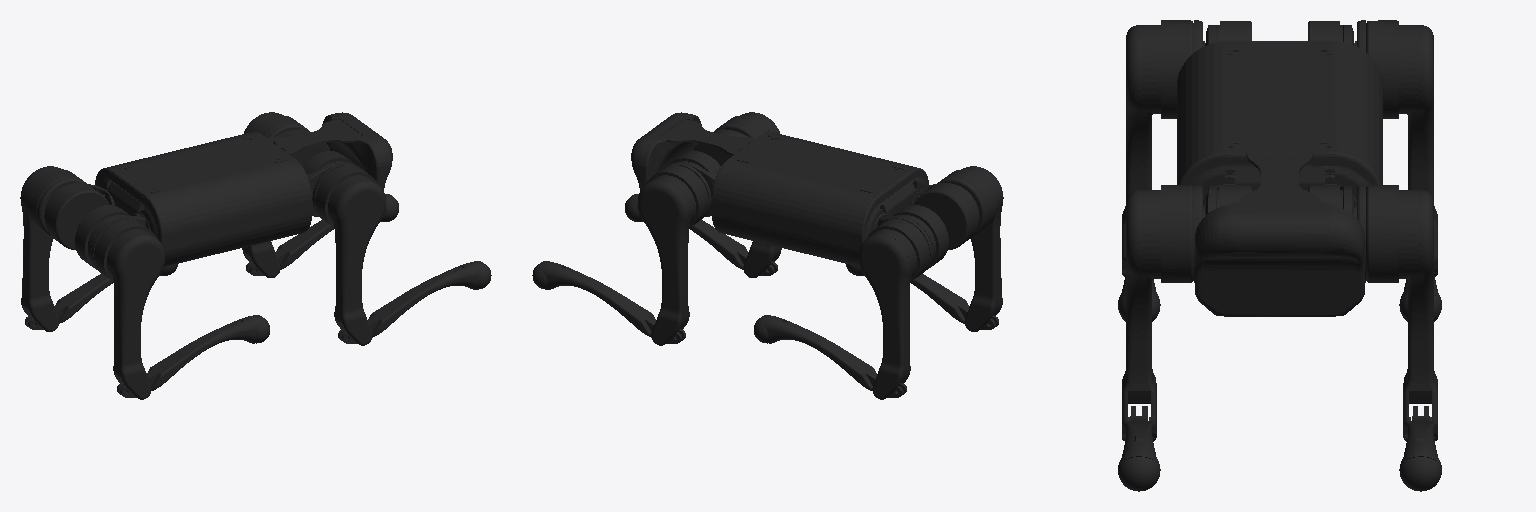
URDF robot description (a1_description):
<?xml version="1.0" ?>
<!-- =================================================================================== -->
<!-- |    This document was autogenerated by xacro from robot.xacro                    | -->
<!-- |    EDITING THIS FILE BY HAND IS NOT RECOMMENDED                                 | -->
<!-- =================================================================================== -->
<robot name="a1_description" xmlns:xacro="http://www.ros.org/wiki/xacro">
  <material name="black">
    <color rgba="0.0 0.0 0.0 1.0"/>
  </material>
  <material name="blue">
    <color rgba="0.0 0.0 0.8 1.0"/>
  </material>
  <material name="green">
    <color rgba="0.0 0.8 0.0 1.0"/>
  </material>
  <material name="grey">
    <color rgba="0.2 0.2 0.2 1.0"/>
  </material>
  <material name="silver">
    <color rgba="0.913725490196 0.913725490196 0.847058823529 1.0"/>
  </material>
  <material name="orange">
    <color rgba="1.0 0.423529411765 0.0392156862745 1.0"/>
  </material>
  <material name="brown">
    <color rgba="0.870588235294 0.811764705882 0.764705882353 1.0"/>
  </material>
  <material name="red">
    <color rgba="0.8 0.0 0.0 1.0"/>
  </material>
  <material name="white">
    <color rgba="1.0 1.0 1.0 1.0"/>
  </material>
  <link name="base">
    <visual>
      <origin rpy="0 0 0" xyz="0 0 0"/>
      <geometry>
        <box size="0.001 0.001 0.001"/>
      </geometry>
    </visual>
  </link>
  <joint name="floating_base" type="fixed">
    <origin rpy="0 0 0" xyz="0 0 0"/>
    <parent link="base"/>
    <child link="trunk"/>
  </joint>
  <link name="trunk">
    <visual>
      <origin rpy="0 0 0" xyz="0 0 0"/>
      <geometry>
        <mesh filename="../meshes/trunk.obj" scale="1 1 1"/>
      </geometry>
      <material name="grey"/>
    </visual>
    <inertial>
      <origin rpy="0 0 0" xyz="0.012731 0.002186 0.000515"/>
      <mass value="4.713"/>
      <inertia ixx="0.01683993" ixy="8.3902e-05" ixz="0.000597679" iyy="0.056579028" iyz="2.5134e-05" izz="0.064713601"/>
    </inertial>
  </link>
  <joint name="imu_joint" type="fixed">
    <parent link="trunk"/>
    <child link="imu_link"/>
    <origin rpy="0 0 0" xyz="0 0 0"/>
  </joint>
  <link name="imu_link">
    <inertial>
      <mass value="0.001"/>
      <origin rpy="0 0 0" xyz="0 0 0"/>
      <inertia ixx="0.0001" ixy="0" ixz="0" iyy="0.0001" iyz="0" izz="0.0001"/>
    </inertial>
    <visual>
      <origin rpy="0 0 0" xyz="0 0 0"/>
      <geometry>
        <box size="0.001 0.001 0.001"/>
      </geometry>
      <material name="red"/>
    </visual>
  </link>
  <joint name="FR_hip_joint" type="revolute">
    <origin rpy="0 0 0" xyz="0.183 -0.047 0"/>
    <parent link="trunk"/>
    <child link="FR_hip"/>
    <axis xyz="1 0 0"/>
    <dynamics damping="0" friction="0"/>
    <limit effort="20" lower="-0.802851455917" upper="0.802851455917" velocity="52.4"/>
  </joint>
  <link name="FR_hip">
    <visual>
      <origin rpy="3.14159265359 0 0" xyz="0 0 0"/>
      <geometry>
        <mesh filename="../meshes/hip.obj" scale="1 1 1"/>
      </geometry>
      <material name="grey"/>
    </visual>
    <inertial>
      <origin rpy="0 0 0" xyz="-0.003311 -0.000635 3.1e-05"/>
      <mass value="0.696"/>
      <inertia ixx="0.000469246" ixy="9.409e-06" ixz="-3.42e-07" iyy="0.00080749" iyz="4.66e-07" izz="0.000552929"/>
    </inertial>
  </link>
  <joint name="FR_thigh_joint" type="revolute">
    <origin rpy="0 0 0" xyz="0 -0.08505 0"/>
    <parent link="FR_hip"/>
    <child link="FR_thigh"/>
    <axis xyz="0 1 0"/>
    <dynamics damping="0" friction="0"/>
    <limit effort="55" lower="-1.0471975512" upper="4.18879020479" velocity="28.6"/>
  </joint>
  <link name="FR_thigh">
    <visual>
      <origin rpy="0 0 0" xyz="0 0 0"/>
      <geometry>
        <mesh filename="../meshes/thigh_mirror.obj" scale="1 1 1"/>
      </geometry>
      <material name="grey"/>
    </visual>
    <inertial>
      <origin rpy="0 0 0" xyz="-0.003237 0.022327 -0.027326"/>
      <mass value="1.013"/>
      <inertia ixx="0.005529065" ixy="-4.825e-06" ixz="0.000343869" iyy="0.005139339" iyz="-2.2448e-05" izz="0.001367788"/>
    </inertial>
  </link>
  <joint name="FR_calf_joint" type="revolute">
    <origin rpy="0 0 0" xyz="0 0 -0.2"/>
    <parent link="FR_thigh"/>
    <child link="FR_calf"/>
    <axis xyz="0 1 0"/>
    <dynamics damping="0" friction="0"/>
    <limit effort="55" lower="-2.69653369433" upper="-0.916297857297" velocity="28.6"/>
  </joint>
  <link name="FR_calf">
    <visual>
      <origin rpy="0 0 0" xyz="0 0 0"/>
      <geometry>
        <mesh filename="../meshes/calf.obj" scale="1 1 1"/>
      </geometry>
      <material name="grey"/>
    </visual>
    <inertial>
      <origin rpy="0 0 0" xyz="0.006435 0.0 -0.107388"/>
      <mass value="0.166"/>
      <inertia ixx="0.002997972" ixy="0.0" ixz="-0.000141163" iyy="0.003014022" iyz="0.0" izz="3.2426e-05"/>
    </inertial>
  </link>
  <joint name="FR_foot_fixed" type="fixed">
    <origin rpy="0 0 0" xyz="0 0 -0.2"/>
    <parent link="FR_calf"/>
    <child link="FR_foot"/>
  </joint>
  <link name="FR_foot">
    <visual>
      <origin rpy="0 0 0" xyz="0 0 0"/>
      <geometry>
        <sphere radius="0.01"/>
      </geometry>
      <material name="grey"/>
    </visual>
    <inertial>
      <mass value="0.06"/>
      <inertia ixx="9.6e-06" ixy="0.0" ixz="0.0" iyy="9.6e-06" iyz="0.0" izz="9.6e-06"/>
    </inertial>
  </link>
  <transmission name="FR_hip_tran">
    <type>transmission_interface/SimpleTransmission</type>
    <joint name="FR_hip_joint">
      <hardwareInterface>hardware_interface/EffortJointInterface</hardwareInterface>
    </joint>
    <actuator name="FR_hip_motor">
      <hardwareInterface>hardware_interface/EffortJointInterface</hardwareInterface>
      <mechanicalReduction>1</mechanicalReduction>
    </actuator>
  </transmission>
  <transmission name="FR_thigh_tran">
    <type>transmission_interface/SimpleTransmission</type>
    <joint name="FR_thigh_joint">
      <hardwareInterface>hardware_interface/EffortJointInterface</hardwareInterface>
    </joint>
    <actuator name="FR_thigh_motor">
      <hardwareInterface>hardware_interface/EffortJointInterface</hardwareInterface>
      <mechanicalReduction>1</mechanicalReduction>
    </actuator>
  </transmission>
  <transmission name="FR_calf_tran">
    <type>transmission_interface/SimpleTransmission</type>
    <joint name="FR_calf_joint">
      <hardwareInterface>hardware_interface/EffortJointInterface</hardwareInterface>
    </joint>
    <actuator name="FR_calf_motor">
      <hardwareInterface>hardware_interface/EffortJointInterface</hardwareInterface>
      <mechanicalReduction>1</mechanicalReduction>
    </actuator>
  </transmission>
  <joint name="FL_hip_joint" type="revolute">
    <origin rpy="0 0 0" xyz="0.183 0.047 0"/>
    <parent link="trunk"/>
    <child link="FL_hip"/>
    <axis xyz="1 0 0"/>
    <dynamics damping="0" friction="0"/>
    <limit effort="20" lower="-0.802851455917" upper="0.802851455917" velocity="52.4"/>
  </joint>
  <link name="FL_hip">
    <visual>
      <origin rpy="0 0 0" xyz="0 0 0"/>
      <geometry>
        <mesh filename="../meshes/hip.obj" scale="1 1 1"/>
      </geometry>
      <material name="grey"/>
    </visual>
    <inertial>
      <origin rpy="0 0 0" xyz="-0.003311 0.000635 3.1e-05"/>
      <mass value="0.696"/>
      <inertia ixx="0.000469246" ixy="-9.409e-06" ixz="-3.42e-07" iyy="0.00080749" iyz="-4.66e-07" izz="0.000552929"/>
    </inertial>
  </link>
  <joint name="FL_thigh_joint" type="revolute">
    <origin rpy="0 0 0" xyz="0 0.08505 0"/>
    <parent link="FL_hip"/>
    <child link="FL_thigh"/>
    <axis xyz="0 1 0"/>
    <dynamics damping="0" friction="0"/>
    <limit effort="55" lower="-1.0471975512" upper="4.18879020479" velocity="28.6"/>
  </joint>
  <link name="FL_thigh">
    <visual>
      <origin rpy="0 0 0" xyz="0 0 0"/>
      <geometry>
        <mesh filename="../meshes/thigh.obj" scale="1 1 1"/>
      </geometry>
      <material name="grey"/>
    </visual>
    <inertial>
      <origin rpy="0 0 0" xyz="-0.003237 -0.022327 -0.027326"/>
      <mass value="1.013"/>
      <inertia ixx="0.005529065" ixy="4.825e-06" ixz="0.000343869" iyy="0.005139339" iyz="2.2448e-05" izz="0.001367788"/>
    </inertial>
  </link>
  <joint name="FL_calf_joint" type="revolute">
    <origin rpy="0 0 0" xyz="0 0 -0.2"/>
    <parent link="FL_thigh"/>
    <child link="FL_calf"/>
    <axis xyz="0 1 0"/>
    <dynamics damping="0" friction="0"/>
    <limit effort="55" lower="-2.69653369433" upper="-0.916297857297" velocity="28.6"/>
  </joint>
  <link name="FL_calf">
    <visual>
      <origin rpy="0 0 0" xyz="0 0 0"/>
      <geometry>
        <mesh filename="../meshes/calf.obj" scale="1 1 1"/>
      </geometry>
      <material name="grey"/>
    </visual>
    <inertial>
      <origin rpy="0 0 0" xyz="0.006435 0.0 -0.107388"/>
      <mass value="0.166"/>
      <inertia ixx="0.002997972" ixy="0.0" ixz="-0.000141163" iyy="0.003014022" iyz="0.0" izz="3.2426e-05"/>
    </inertial>
  </link>
  <joint name="FL_foot_fixed" type="fixed">
    <origin rpy="0 0 0" xyz="0 0 -0.2"/>
    <parent link="FL_calf"/>
    <child link="FL_foot"/>
  </joint>
  <link name="FL_foot">
    <visual>
      <origin rpy="0 0 0" xyz="0 0 0"/>
      <geometry>
        <sphere radius="0.01"/>
      </geometry>
      <material name="grey"/>
    </visual>
    <inertial>
      <mass value="0.06"/>
      <inertia ixx="9.6e-06" ixy="0.0" ixz="0.0" iyy="9.6e-06" iyz="0.0" izz="9.6e-06"/>
    </inertial>
  </link>
  <transmission name="FL_hip_tran">
    <type>transmission_interface/SimpleTransmission</type>
    <joint name="FL_hip_joint">
      <hardwareInterface>hardware_interface/EffortJointInterface</hardwareInterface>
    </joint>
    <actuator name="FL_hip_motor">
      <hardwareInterface>hardware_interface/EffortJointInterface</hardwareInterface>
      <mechanicalReduction>1</mechanicalReduction>
    </actuator>
  </transmission>
  <transmission name="FL_thigh_tran">
    <type>transmission_interface/SimpleTransmission</type>
    <joint name="FL_thigh_joint">
      <hardwareInterface>hardware_interface/EffortJointInterface</hardwareInterface>
    </joint>
    <actuator name="FL_thigh_motor">
      <hardwareInterface>hardware_interface/EffortJointInterface</hardwareInterface>
      <mechanicalReduction>1</mechanicalReduction>
    </actuator>
  </transmission>
  <transmission name="FL_calf_tran">
    <type>transmission_interface/SimpleTransmission</type>
    <joint name="FL_calf_joint">
      <hardwareInterface>hardware_interface/EffortJointInterface</hardwareInterface>
    </joint>
    <actuator name="FL_calf_motor">
      <hardwareInterface>hardware_interface/EffortJointInterface</hardwareInterface>
      <mechanicalReduction>1</mechanicalReduction>
    </actuator>
  </transmission>
  <joint name="RR_hip_joint" type="revolute">
    <origin rpy="0 0 0" xyz="-0.183 -0.047 0"/>
    <parent link="trunk"/>
    <child link="RR_hip"/>
    <axis xyz="1 0 0"/>
    <dynamics damping="0" friction="0"/>
    <limit effort="20" lower="-0.802851455917" upper="0.802851455917" velocity="52.4"/>
  </joint>
  <link name="RR_hip">
    <visual>
      <origin rpy="3.14159265359 3.14159265359 0" xyz="0 0 0"/>
      <geometry>
        <mesh filename="../meshes/hip.obj" scale="1 1 1"/>
      </geometry>
      <material name="grey"/>
    </visual>
    <inertial>
      <origin rpy="0 0 0" xyz="0.003311 -0.000635 3.1e-05"/>
      <mass value="0.696"/>
      <inertia ixx="0.000469246" ixy="-9.409e-06" ixz="3.42e-07" iyy="0.00080749" iyz="4.66e-07" izz="0.000552929"/>
    </inertial>
  </link>
  <joint name="RR_thigh_joint" type="revolute">
    <origin rpy="0 0 0" xyz="0 -0.08505 0"/>
    <parent link="RR_hip"/>
    <child link="RR_thigh"/>
    <axis xyz="0 1 0"/>
    <dynamics damping="0" friction="0"/>
    <limit effort="55" lower="-1.0471975512" upper="4.18879020479" velocity="28.6"/>
  </joint>
  <link name="RR_thigh">
    <visual>
      <origin rpy="0 0 0" xyz="0 0 0"/>
      <geometry>
        <mesh filename="../meshes/thigh_mirror.obj" scale="1 1 1"/>
      </geometry>
      <material name="grey"/>
    </visual>
    <inertial>
      <origin rpy="0 0 0" xyz="-0.003237 0.022327 -0.027326"/>
      <mass value="1.013"/>
      <inertia ixx="0.005529065" ixy="-4.825e-06" ixz="0.000343869" iyy="0.005139339" iyz="-2.2448e-05" izz="0.001367788"/>
    </inertial>
  </link>
  <joint name="RR_calf_joint" type="revolute">
    <origin rpy="0 0 0" xyz="0 0 -0.2"/>
    <parent link="RR_thigh"/>
    <child link="RR_calf"/>
    <axis xyz="0 1 0"/>
    <dynamics damping="0" friction="0"/>
    <limit effort="55" lower="-2.69653369433" upper="-0.916297857297" velocity="28.6"/>
  </joint>
  <link name="RR_calf">
    <visual>
      <origin rpy="0 0 0" xyz="0 0 0"/>
      <geometry>
        <mesh filename="../meshes/calf.obj" scale="1 1 1"/>
      </geometry>
      <material name="grey"/>
    </visual>
    <inertial>
      <origin rpy="0 0 0" xyz="0.006435 0.0 -0.107388"/>
      <mass value="0.166"/>
      <inertia ixx="0.002997972" ixy="0.0" ixz="-0.000141163" iyy="0.003014022" iyz="0.0" izz="3.2426e-05"/>
    </inertial>
  </link>
  <joint name="RR_foot_fixed" type="fixed">
    <origin rpy="0 0 0" xyz="0 0 -0.2"/>
    <parent link="RR_calf"/>
    <child link="RR_foot"/>
  </joint>
  <link name="RR_foot">
    <visual>
      <origin rpy="0 0 0" xyz="0 0 0"/>
      <geometry>
        <sphere radius="0.01"/>
      </geometry>
      <material name="grey"/>
    </visual>
    <inertial>
      <mass value="0.06"/>
      <inertia ixx="9.6e-06" ixy="0.0" ixz="0.0" iyy="9.6e-06" iyz="0.0" izz="9.6e-06"/>
    </inertial>
  </link>
  <transmission name="RR_hip_tran">
    <type>transmission_interface/SimpleTransmission</type>
    <joint name="RR_hip_joint">
      <hardwareInterface>hardware_interface/EffortJointInterface</hardwareInterface>
    </joint>
    <actuator name="RR_hip_motor">
      <hardwareInterface>hardware_interface/EffortJointInterface</hardwareInterface>
      <mechanicalReduction>1</mechanicalReduction>
    </actuator>
  </transmission>
  <transmission name="RR_thigh_tran">
    <type>transmission_interface/SimpleTransmission</type>
    <joint name="RR_thigh_joint">
      <hardwareInterface>hardware_interface/EffortJointInterface</hardwareInterface>
    </joint>
    <actuator name="RR_thigh_motor">
      <hardwareInterface>hardware_interface/EffortJointInterface</hardwareInterface>
      <mechanicalReduction>1</mechanicalReduction>
    </actuator>
  </transmission>
  <transmission name="RR_calf_tran">
    <type>transmission_interface/SimpleTransmission</type>
    <joint name="RR_calf_joint">
      <hardwareInterface>hardware_interface/EffortJointInterface</hardwareInterface>
    </joint>
    <actuator name="RR_calf_motor">
      <hardwareInterface>hardware_interface/EffortJointInterface</hardwareInterface>
      <mechanicalReduction>1</mechanicalReduction>
    </actuator>
  </transmission>
  <joint name="RL_hip_joint" type="revolute">
    <origin rpy="0 0 0" xyz="-0.183 0.047 0"/>
    <parent link="trunk"/>
    <child link="RL_hip"/>
    <axis xyz="1 0 0"/>
    <dynamics damping="0" friction="0"/>
    <limit effort="20" lower="-0.802851455917" upper="0.802851455917" velocity="52.4"/>
  </joint>
  <link name="RL_hip">
    <visual>
      <origin rpy="0 3.14159265359 0" xyz="0 0 0"/>
      <geometry>
        <mesh filename="../meshes/hip.obj" scale="1 1 1"/>
      </geometry>
      <material name="grey"/>
    </visual>
    <inertial>
      <origin rpy="0 0 0" xyz="0.003311 0.000635 3.1e-05"/>
      <mass value="0.696"/>
      <inertia ixx="0.000469246" ixy="9.409e-06" ixz="3.42e-07" iyy="0.00080749" iyz="-4.66e-07" izz="0.000552929"/>
    </inertial>
  </link>
  <joint name="RL_thigh_joint" type="revolute">
    <origin rpy="0 0 0" xyz="0 0.08505 0"/>
    <parent link="RL_hip"/>
    <child link="RL_thigh"/>
    <axis xyz="0 1 0"/>
    <dynamics damping="0" friction="0"/>
    <limit effort="55" lower="-1.0471975512" upper="4.18879020479" velocity="28.6"/>
  </joint>
  <link name="RL_thigh">
    <visual>
      <origin rpy="0 0 0" xyz="0 0 0"/>
      <geometry>
        <mesh filename="../meshes/thigh.obj" scale="1 1 1"/>
      </geometry>
      <material name="grey"/>
    </visual>
    <inertial>
      <origin rpy="0 0 0" xyz="-0.003237 -0.022327 -0.027326"/>
      <mass value="1.013"/>
      <inertia ixx="0.005529065" ixy="4.825e-06" ixz="0.000343869" iyy="0.005139339" iyz="2.2448e-05" izz="0.001367788"/>
    </inertial>
  </link>
  <joint name="RL_calf_joint" type="revolute">
    <origin rpy="0 0 0" xyz="0 0 -0.2"/>
    <parent link="RL_thigh"/>
    <child link="RL_calf"/>
    <axis xyz="0 1 0"/>
    <dynamics damping="0" friction="0"/>
    <limit effort="55" lower="-2.69653369433" upper="-0.916297857297" velocity="28.6"/>
  </joint>
  <link name="RL_calf">
    <visual>
      <origin rpy="0 0 0" xyz="0 0 0"/>
      <geometry>
        <mesh filename="../meshes/calf.obj" scale="1 1 1"/>
      </geometry>
      <material name="grey"/>
    </visual>
    <inertial>
      <origin rpy="0 0 0" xyz="0.006435 0.0 -0.107388"/>
      <mass value="0.166"/>
      <inertia ixx="0.002997972" ixy="0.0" ixz="-0.000141163" iyy="0.003014022" iyz="0.0" izz="3.2426e-05"/>
    </inertial>
  </link>
  <joint name="RL_foot_fixed" type="fixed">
    <origin rpy="0 0 0" xyz="0 0 -0.2"/>
    <parent link="RL_calf"/>
    <child link="RL_foot"/>
  </joint>
  <link name="RL_foot">
    <visual>
      <origin rpy="0 0 0" xyz="0 0 0"/>
      <geometry>
        <sphere radius="0.01"/>
      </geometry>
      <material name="grey"/>
    </visual>
    <inertial>
      <mass value="0.06"/>
      <inertia ixx="9.6e-06" ixy="0.0" ixz="0.0" iyy="9.6e-06" iyz="0.0" izz="9.6e-06"/>
    </inertial>
  </link>
  <transmission name="RL_hip_tran">
    <type>transmission_interface/SimpleTransmission</type>
    <joint name="RL_hip_joint">
      <hardwareInterface>hardware_interface/EffortJointInterface</hardwareInterface>
    </joint>
    <actuator name="RL_hip_motor">
      <hardwareInterface>hardware_interface/EffortJointInterface</hardwareInterface>
      <mechanicalReduction>1</mechanicalReduction>
    </actuator>
  </transmission>
  <transmission name="RL_thigh_tran">
    <type>transmission_interface/SimpleTransmission</type>
    <joint name="RL_thigh_joint">
      <hardwareInterface>hardware_interface/EffortJointInterface</hardwareInterface>
    </joint>
    <actuator name="RL_thigh_motor">
      <hardwareInterface>hardware_interface/EffortJointInterface</hardwareInterface>
      <mechanicalReduction>1</mechanicalReduction>
    </actuator>
  </transmission>
  <transmission name="RL_calf_tran">
    <type>transmission_interface/SimpleTransmission</type>
    <joint name="RL_calf_joint">
      <hardwareInterface>hardware_interface/EffortJointInterface</hardwareInterface>
    </joint>
    <actuator name="RL_calf_motor">
      <hardwareInterface>hardware_interface/EffortJointInterface</hardwareInterface>
      <mechanicalReduction>1</mechanicalReduction>
    </actuator>
  </transmission>
</robot>

--- Render facts (derived) ---
Views: 3 orthographic renders of the robot side by side, from view 1: azimuth 30°, elevation 25°; view 2: azimuth 150°, elevation 25°; view 3: azimuth 270°, elevation 25°.
Model a1_description with 19 links and 18 joints (12 revolute, 6 fixed), rooted at base, posed joints at zero except 4 at the middle of their limits (FR_calf_joint = -1.81, FL_calf_joint = -1.81, RR_calf_joint = -1.81, RL_calf_joint = -1.81).
Visible links, largest first — view 1: trunk, RR_thigh, FR_thigh, RL_thigh, FR_calf, RR_calf, RL_hip, FL_thigh, FL_calf, RL_calf, RR_hip, FR_hip; view 2: trunk, RL_thigh, FL_thigh, RR_thigh, FL_calf, RL_calf, RR_hip, FR_thigh, FR_calf, RR_calf, RL_hip, FL_hip; view 3: trunk, FR_thigh, FL_thigh, RR_thigh, RL_thigh, FR_calf, FL_calf, RR_hip, RL_hip, FL_hip, FR_hip, RL_calf (+1 smaller).
Link boxes in pixels (box(x1,y1,x2,y2)): trunk: box(95, 112, 392, 266); RR_thigh: box(91, 217, 164, 399); FR_thigh: box(312, 163, 385, 345); RL_thigh: box(20, 166, 86, 331); FR_calf: box(338, 261, 491, 343); RR_calf: box(117, 315, 269, 397); RL_hip: box(44, 183, 114, 249); FL_thigh: box(242, 112, 308, 277); FL_calf: box(246, 194, 398, 275); RL_calf: box(25, 264, 177, 329); RR_hip: box(75, 205, 145, 269); FR_hip: box(303, 151, 353, 216); trunk: box(631, 112, 928, 266); RL_thigh: box(859, 217, 932, 399); FL_thigh: box(638, 163, 711, 345); RR_thigh: box(937, 166, 1003, 331); FL_calf: box(532, 261, 685, 343); RL_calf: box(754, 315, 906, 397); RR_hip: box(909, 183, 979, 249); FR_thigh: box(715, 112, 781, 277); FR_calf: box(625, 194, 777, 275); RR_calf: box(846, 264, 998, 329); RL_hip: box(878, 205, 948, 269); FL_hip: box(670, 151, 720, 216); trunk: box(1177, 41, 1382, 316); FR_thigh: box(1122, 185, 1204, 441); FL_thigh: box(1355, 185, 1437, 441); RR_thigh: box(1122, 20, 1204, 276); RL_thigh: box(1355, 20, 1437, 276); FR_calf: box(1118, 406, 1160, 491); FL_calf: box(1399, 406, 1441, 491); RR_hip: box(1205, 21, 1251, 45); RL_hip: box(1308, 21, 1354, 45); FL_hip: box(1308, 185, 1354, 215); FR_hip: box(1205, 185, 1251, 215); RL_calf: box(1399, 256, 1441, 321).
Bounding box of the posed robot: 0.6265 × 0.3041 × 0.272 m (x, y, z).
Meshes: 5 distinct files referenced, 13 mesh visuals loaded (5 OBJ).